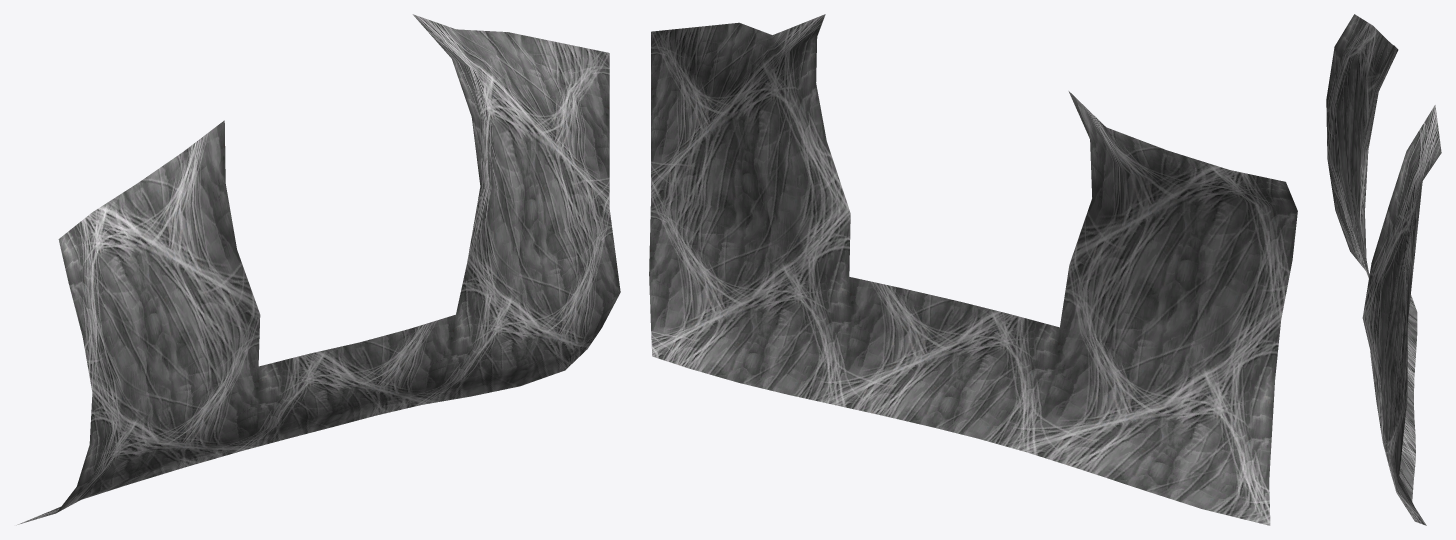
File: SWORDLIGHT20_PS-AREA01_33.fbx
3 renders of one model, left to right at view 1: azimuth 30°, elevation 25°; view 2: azimuth 150°, elevation 25°; view 3: azimuth 270°, elevation 25°, orthographic. The views are drawn at different scales.
Parts seen in each view (by area): view 1: SWORDLIGHT20_PS-AREA01_33; view 2: SWORDLIGHT20_PS-AREA01_33; view 3: SWORDLIGHT20_PS-AREA01_33.
Part boxes in pixels (left/top/right/bottom): SWORDLIGHT20_PS-AREA01_33: left=16, top=14, right=620, bottom=525; SWORDLIGHT20_PS-AREA01_33: left=649, top=14, right=1297, bottom=525; SWORDLIGHT20_PS-AREA01_33: left=1326, top=14, right=1441, bottom=525.
Bounding box in the file's own units: 172183 × 109736 × 30980.
Materials: 1 (1 with a texture image).
